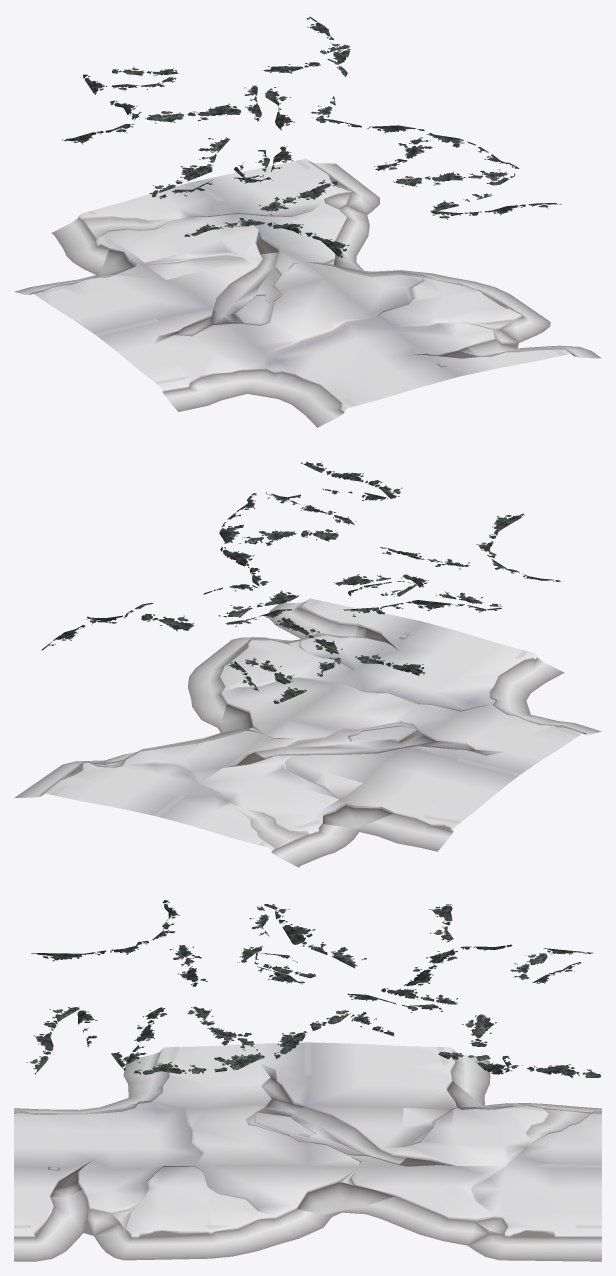
The model's file is Road3WayLB.FBX.
3 renders of one model, top to bottom at view 1: azimuth 30°, elevation 25°; view 2: azimuth 150°, elevation 25°; view 3: azimuth 270°, elevation 25°, orthographic. The views are drawn at different scales.
Parts seen in each view (by area): view 1: WastelandRoad3WayLB:0, PittedDecal; view 2: WastelandRoad3WayLB:0, PittedDecal; view 3: WastelandRoad3WayLB:0, PittedDecal.
Part boxes in pixels (x1,y1,x2,y2): WastelandRoad3WayLB:0: [15, 159, 600, 427]; PittedDecal: [62, 16, 561, 257]; WastelandRoad3WayLB:0: [15, 598, 600, 867]; PittedDecal: [41, 461, 560, 703]; WastelandRoad3WayLB:0: [14, 1042, 601, 1261]; PittedDecal: [26, 900, 601, 1077].
Size of what is drawn, in the model's own units: 8.28 by 3.49 by 10.24.
